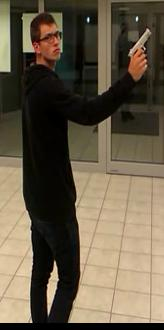pistol: (126, 28, 151, 69)
